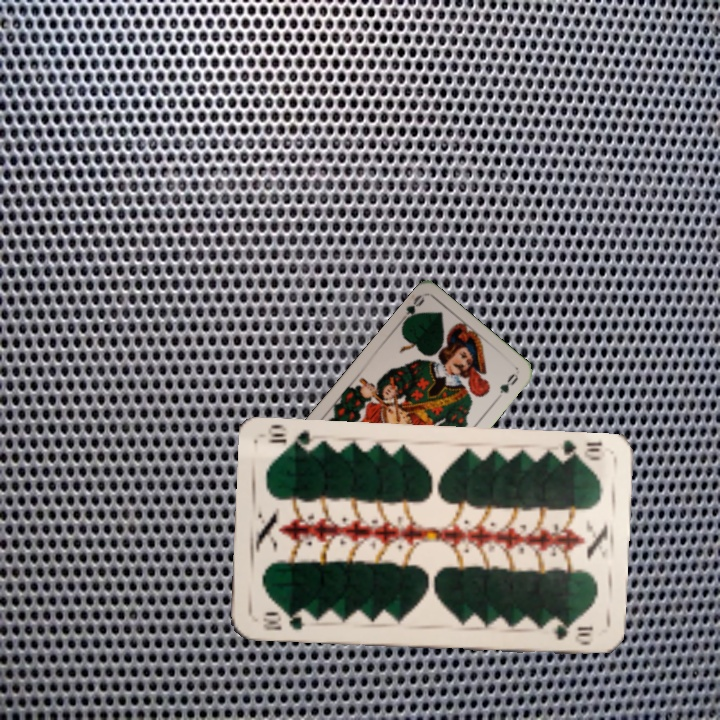G10: (550, 436, 605, 463), (258, 608, 308, 633)
GO: (395, 291, 427, 328)
